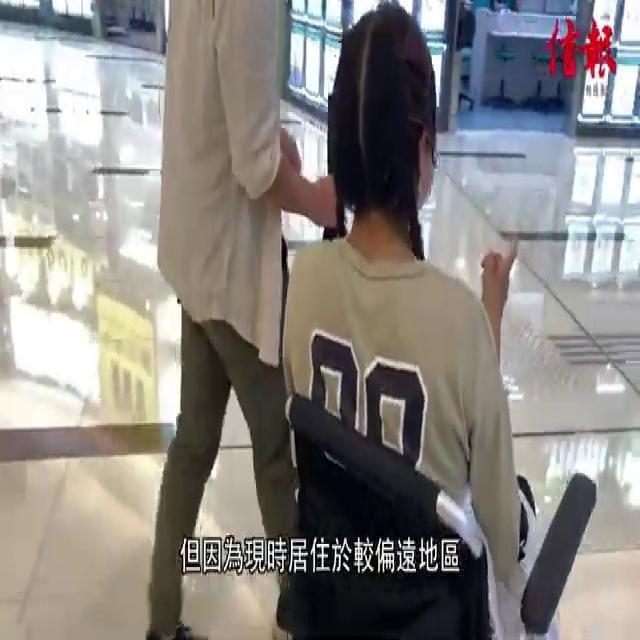wheelchairs: (272, 366, 602, 640)
